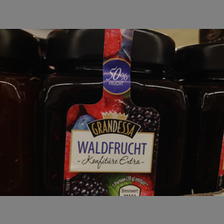jam: (40, 30, 187, 196)
